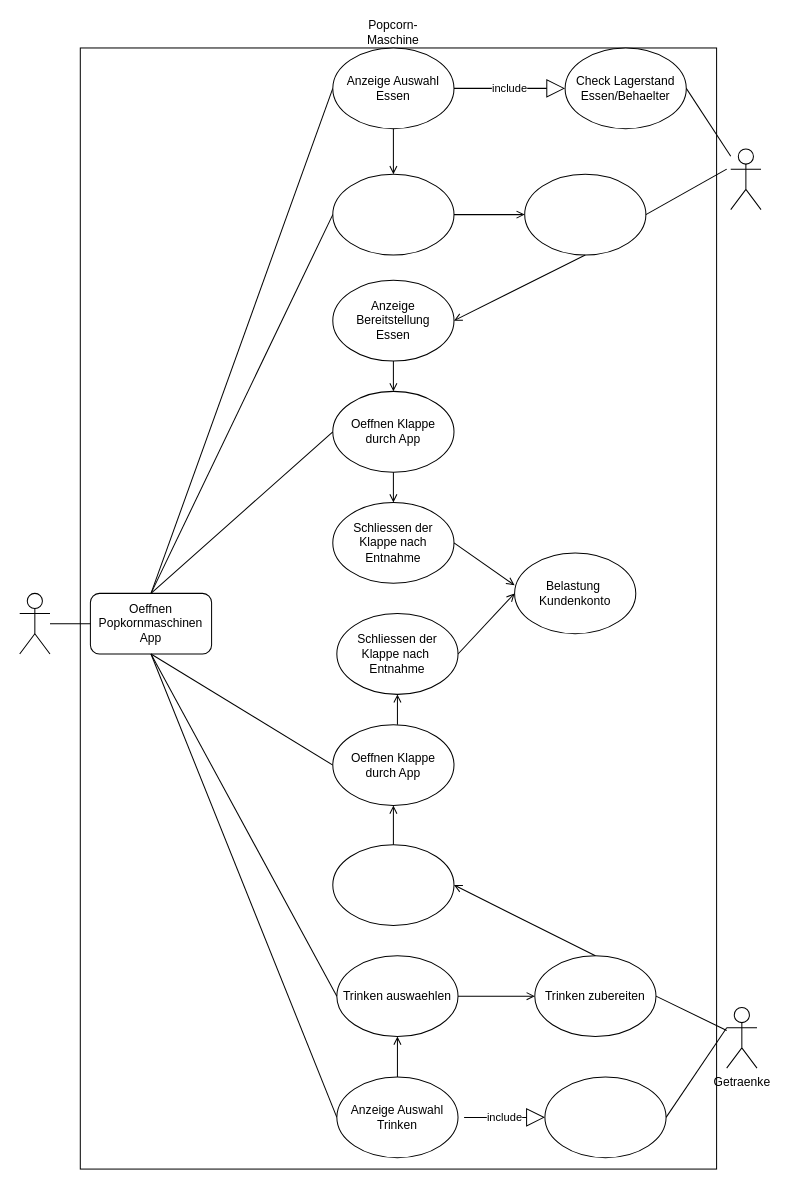
Some shapes in this 788 by 1187 pixel diagram are drawn without their labels. The shapes that lost their labels are listed below. From the top down, each one's centre as x and y in pixels, then its label:
At point 745,179: "Essen".
At point 393,214: "Essen auswaehlen".
At point 585,214: "Essen zubereiten".
At point 34,623: "Kunde".
At point 393,884: "Anzeige Bereitstellung Trinken".
At point 605,1117: "Check Lagerbestand Trinken/Behaelter".
